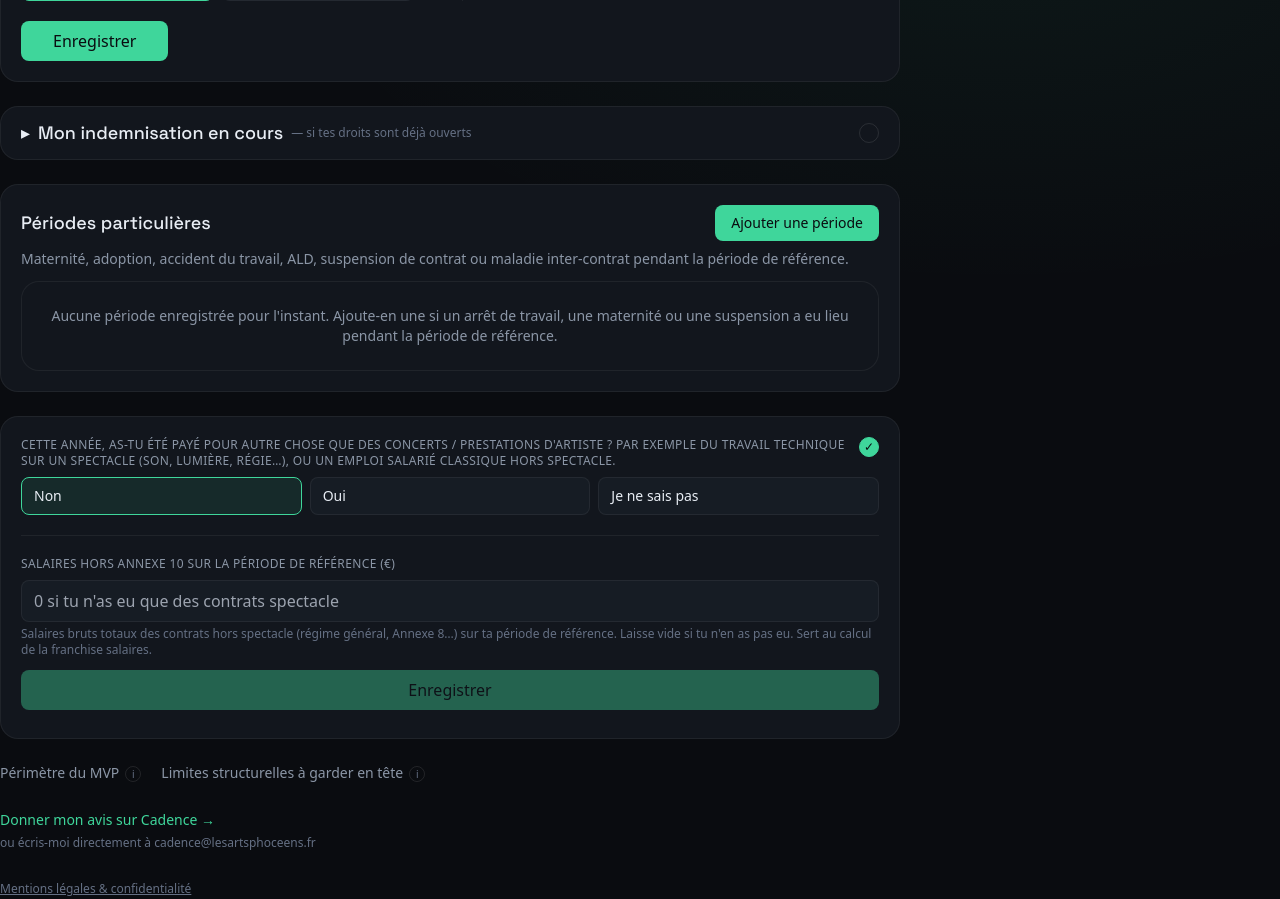
Test: MonProfil — lien mentions légales & confidentialité › ouvre la modale au clic, et le bouton fermer la referme
(page scrolled)
Click the button "Mentions légales & confidentialité" at (96, 889), box [0, 881, 191, 897]
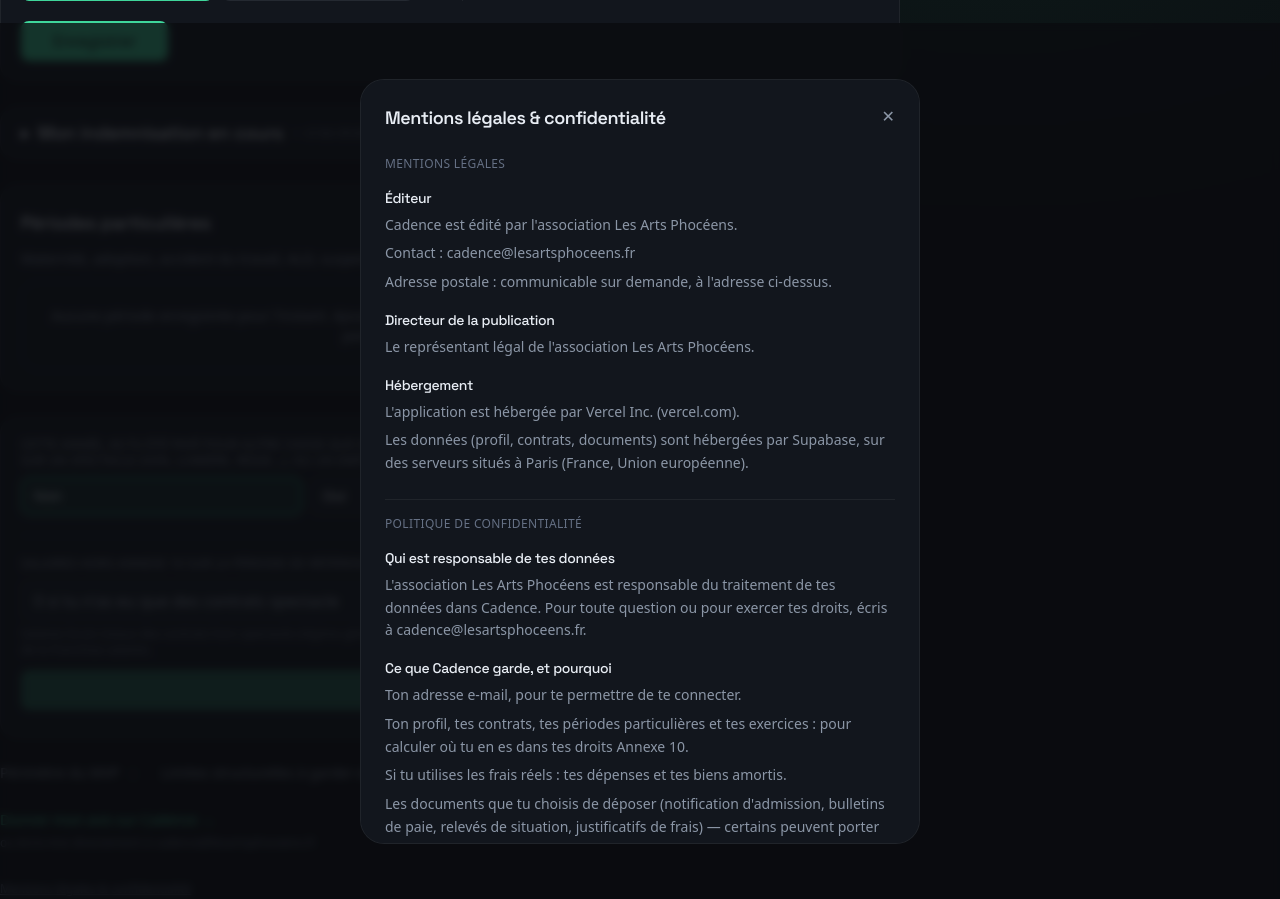
Result: the dialog is shown
Click the button named "fermer" at (888, 116), box [882, 104, 895, 128]
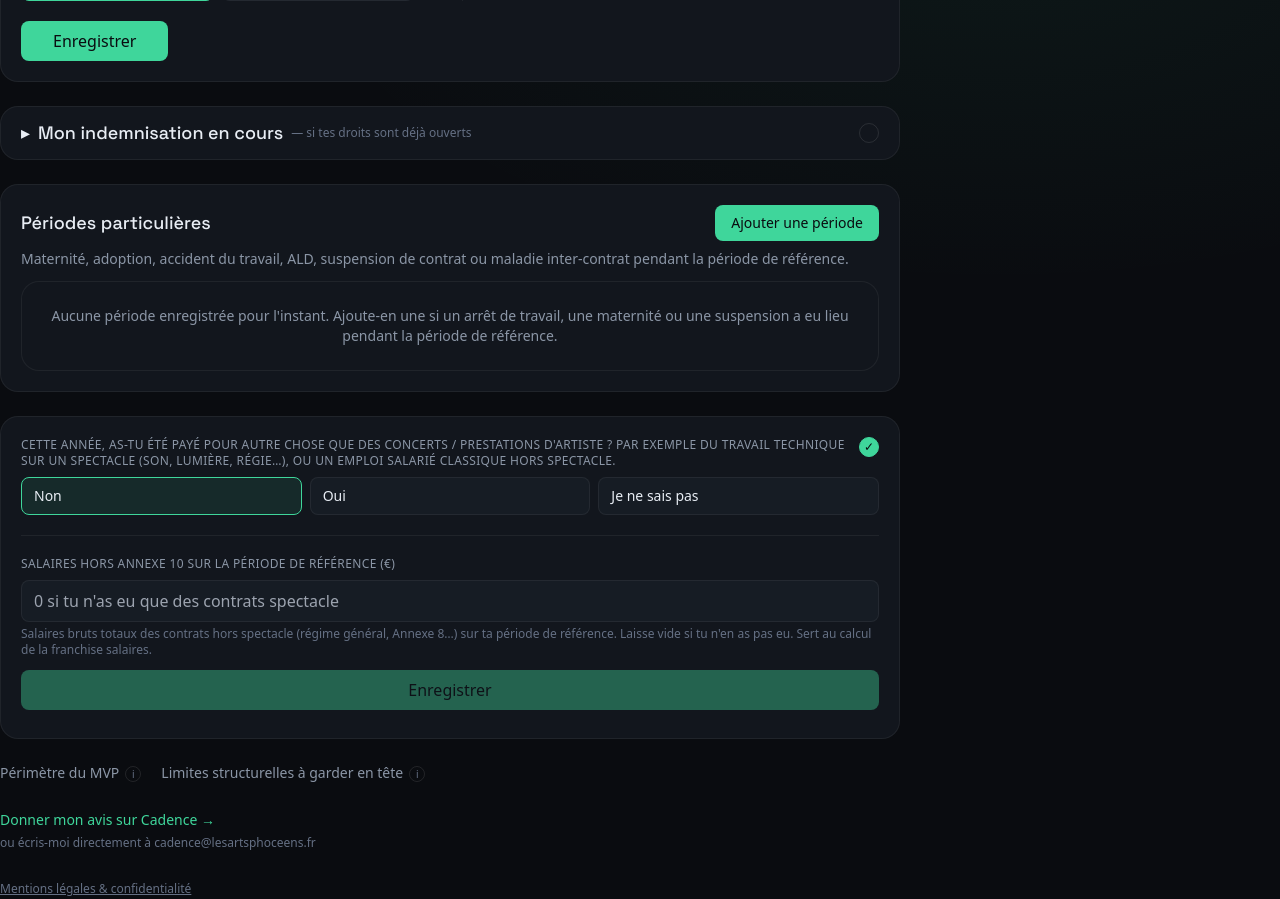
Result: the dialog is gone
